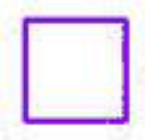CheckBox: (1, 1, 144, 139)
